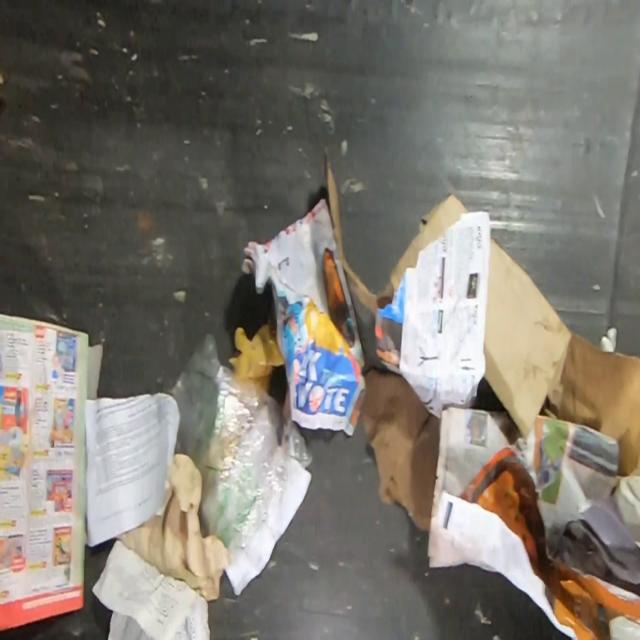cardboard: (325, 165, 470, 314), (482, 236, 573, 439), (539, 333, 640, 477), (360, 365, 441, 533)
soft_plastic: (162, 332, 315, 561)
